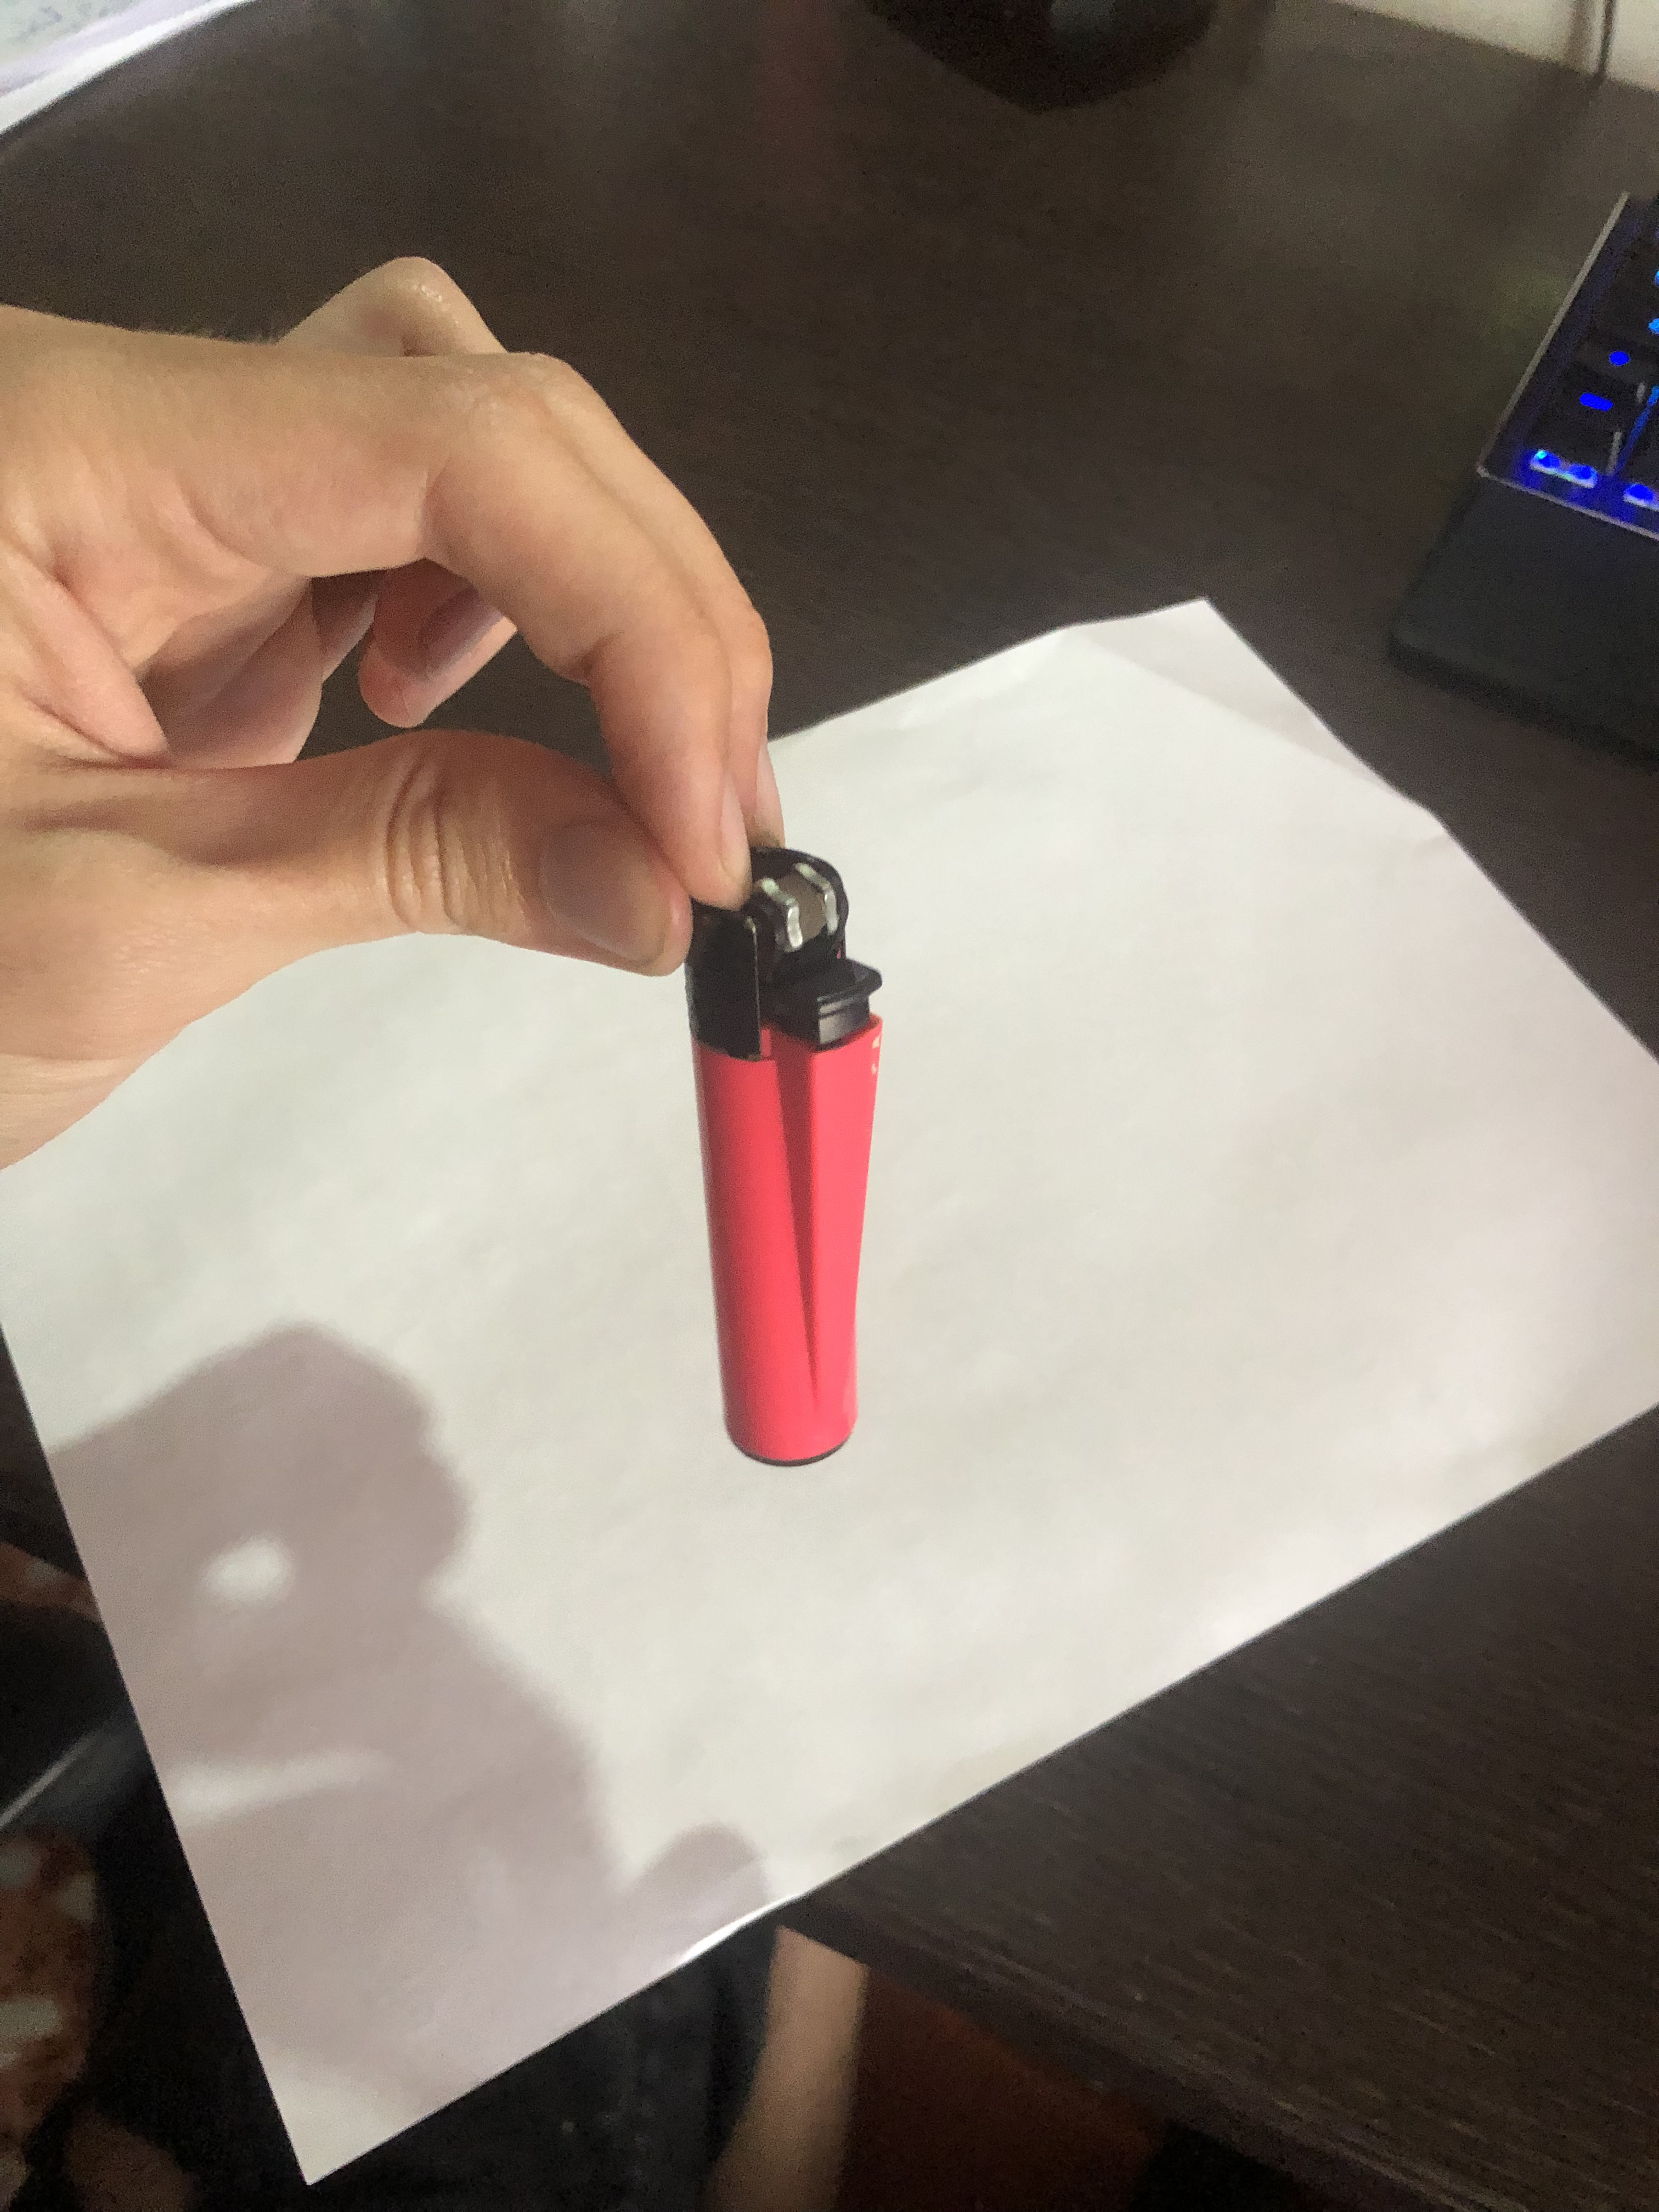Mechero: (667, 848, 911, 1474)
